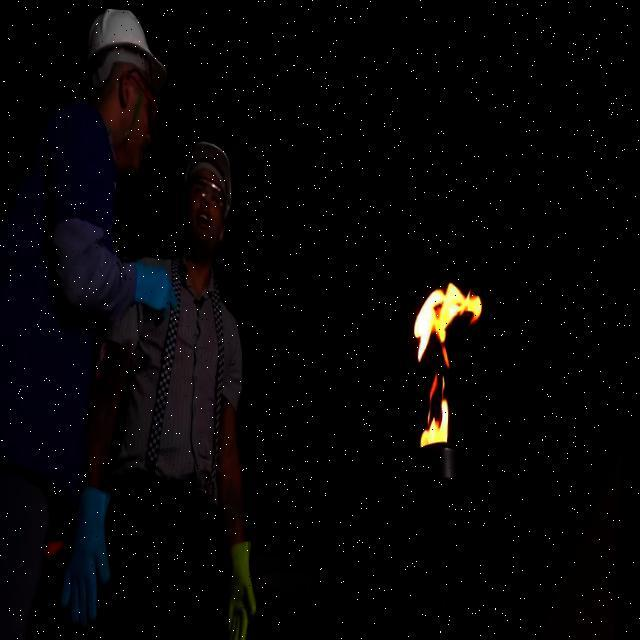Fire: (389, 264, 484, 438)
